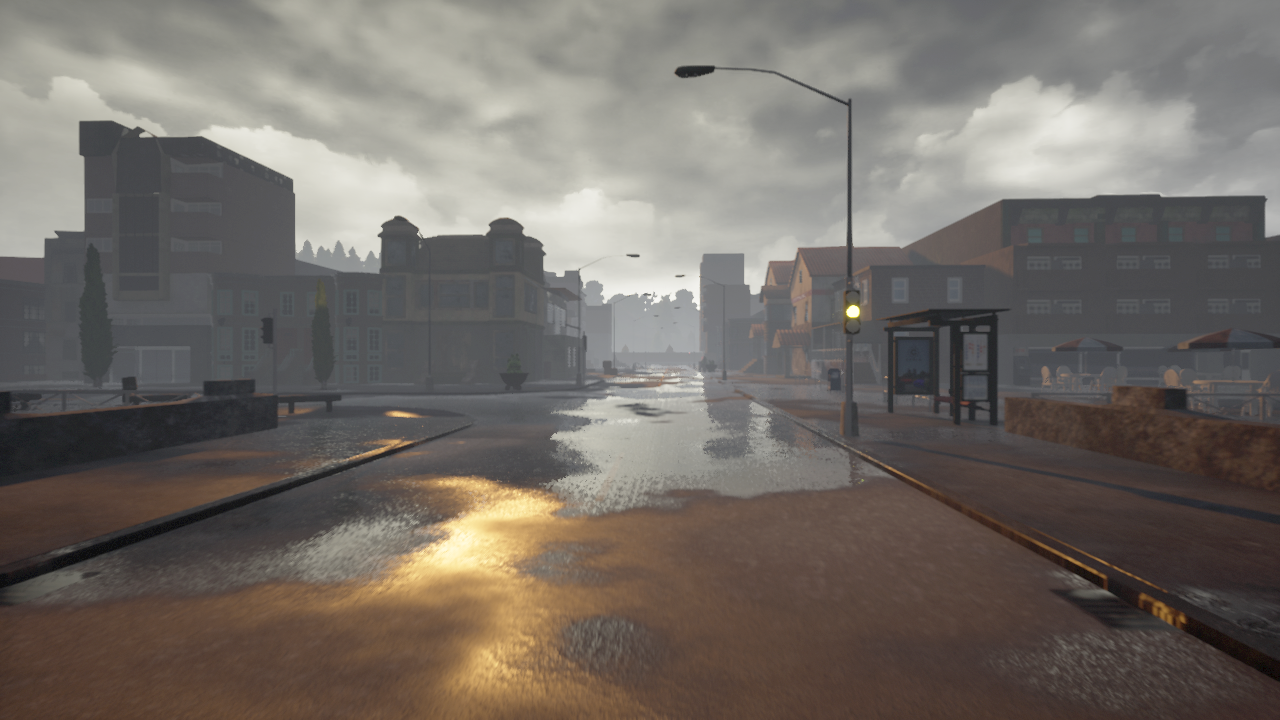yellow: (842, 288, 862, 337)
